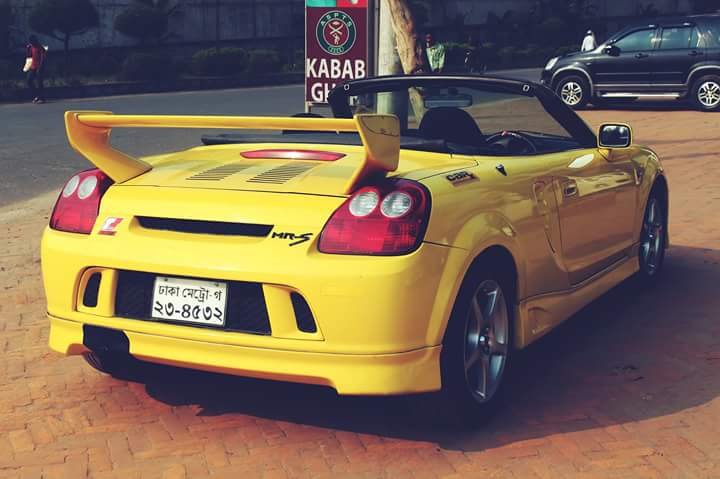registration_plate: (151, 275, 227, 326)
